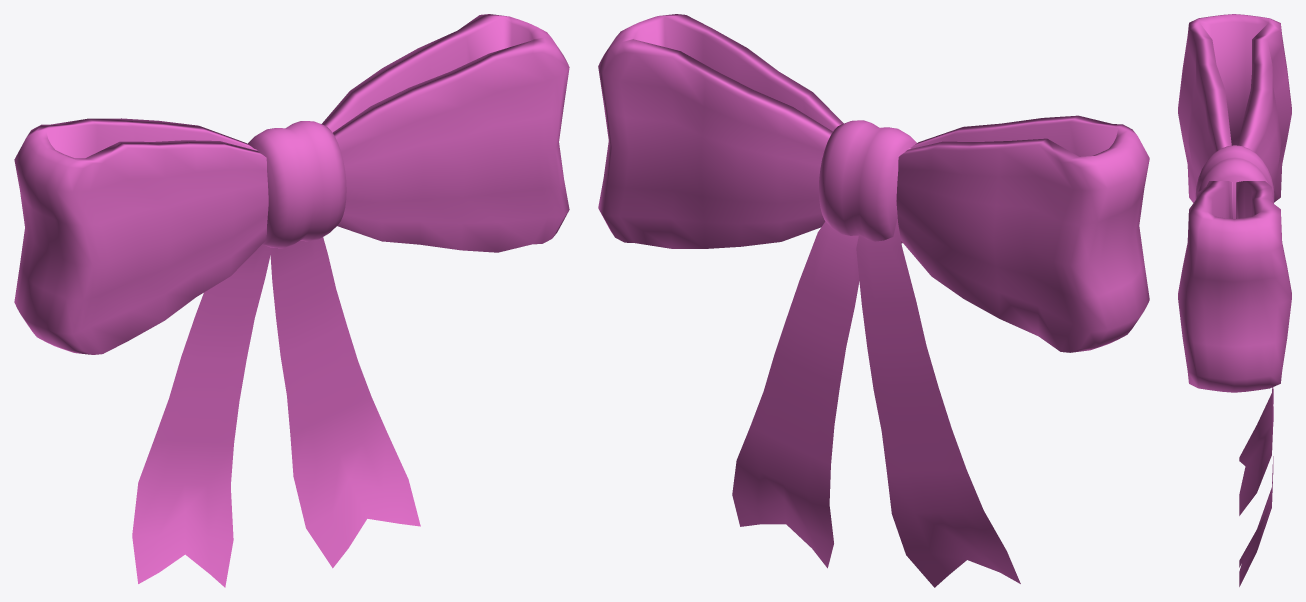
Rendered from Hair_Ribbon_v4.fbx.
3 renders of one model, left to right at view 1: azimuth 30°, elevation 25°; view 2: azimuth 150°, elevation 25°; view 3: azimuth 270°, elevation 25°, orthographic. The views are drawn at different scales.
Visible parts, largest first — view 1: laco_dir, laco_esq, Cauda_esq, Cauda_esq.001, Nó; view 2: laco_dir, laco_esq, Cauda_esq.001, Cauda_esq, Nó; view 3: laco_esq, laco_dir, Nó, Cauda_esq.001, Cauda_esq.
Boxes of the visible parts, left/top/right/bottom form: laco_dir: left=14, top=118, right=268, bottom=354; laco_esq: left=321, top=14, right=569, bottom=252; Cauda_esq: left=270, top=237, right=420, bottom=568; Cauda_esq.001: left=132, top=244, right=270, bottom=587; Nó: left=247, top=121, right=346, bottom=248; laco_dir: left=896, top=115, right=1149, bottom=352; laco_esq: left=598, top=14, right=843, bottom=248; Cauda_esq.001: left=856, top=219, right=1020, bottom=587; Cauda_esq: left=732, top=221, right=859, bottom=568; Nó: left=819, top=120, right=916, bottom=243; laco_esq: left=1178, top=181, right=1291, bottom=392; laco_dir: left=1178, top=14, right=1291, bottom=202; Nó: left=1195, top=145, right=1274, bottom=218; Cauda_esq.001: left=1239, top=387, right=1273, bottom=515; Cauda_esq: left=1239, top=389, right=1273, bottom=586.
Size of the model in its own units: 55.97 by 49.91 by 11.84.
